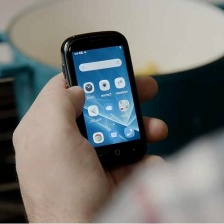phone: (54, 27, 151, 173)
